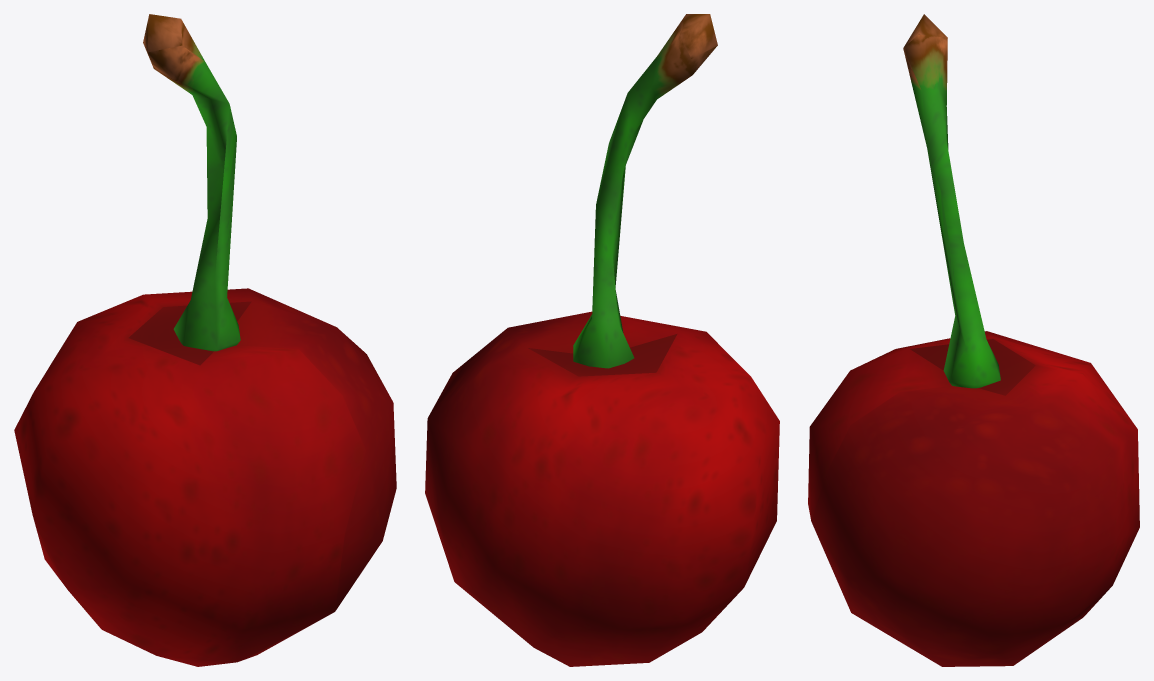
The model's file is Kirsche188.fbx.
3 views of the same model, side by side, from view 1: azimuth 30°, elevation 25°; view 2: azimuth 150°, elevation 25°; view 3: azimuth 270°, elevation 25° (orthographic). The views are drawn at different scales.
Visible parts, largest first — view 1: Sphere_Sphere.001; view 2: Sphere_Sphere.001; view 3: Sphere_Sphere.001.
Part boxes in pixels (<box>): Sphere_Sphere.001: <box>14,14,396,666</box>; Sphere_Sphere.001: <box>425,14,779,666</box>; Sphere_Sphere.001: <box>808,14,1139,666</box>.
Size of the model in its own units: 75.52 by 147 by 74.44.
1 material, 1 textured.
